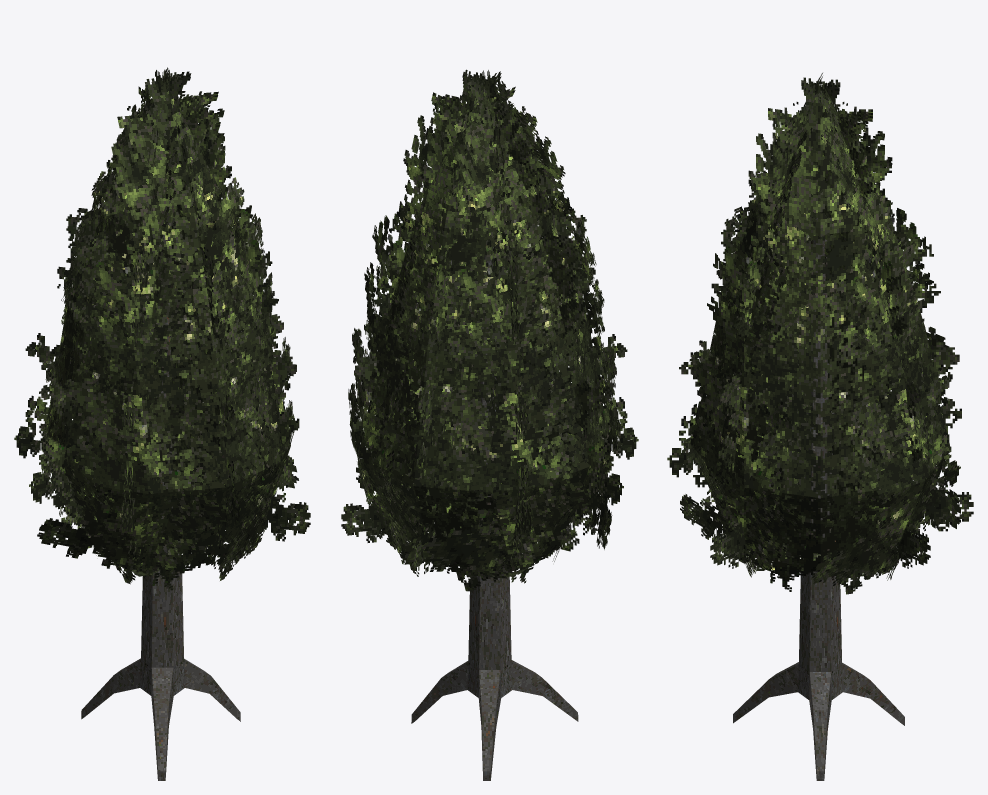
Rendered from tree07_summer.glb.
3 views of the same model, side by side, from view 1: azimuth 30°, elevation 25°; view 2: azimuth 150°, elevation 25°; view 3: azimuth 270°, elevation 25° (orthographic).
Visible parts, largest first — view 1: tree07; view 2: tree07; view 3: tree07.
Boxes of the visible parts, x1,y1,x2,y2 form: tree07: (14,67,310,780); tree07: (341,69,638,780); tree07: (667,73,973,780).
Bounding box in the file's own units: 4.6 × 11.01 × 4.6.
Materials: 1 (1 with a texture image).
